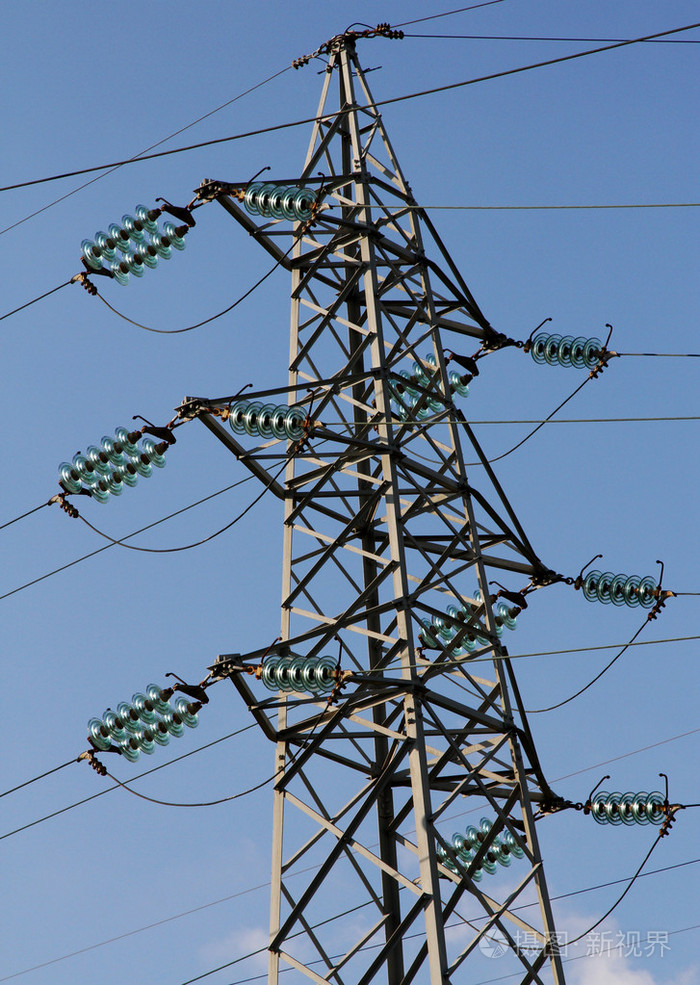insulator: (86, 684, 200, 766), (60, 428, 166, 506), (86, 206, 187, 286), (427, 592, 519, 655), (390, 359, 468, 420), (443, 819, 524, 877), (230, 400, 303, 444), (260, 654, 340, 694), (536, 328, 604, 375), (579, 568, 653, 610), (591, 789, 666, 829), (242, 182, 317, 221)
